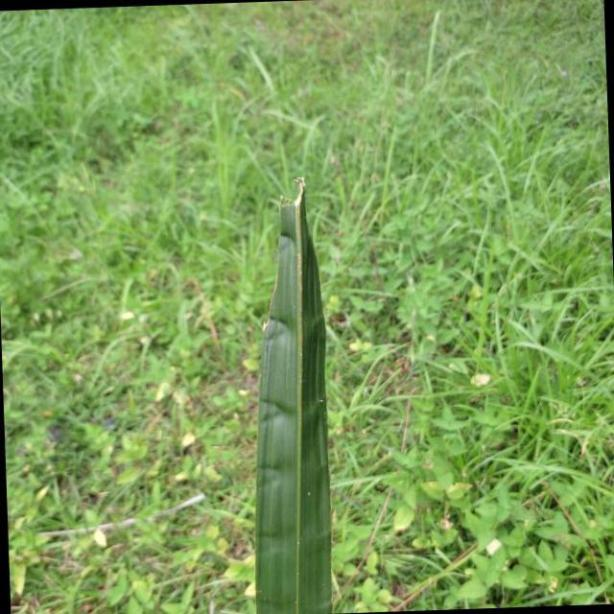Boron: (256, 174, 336, 614)
